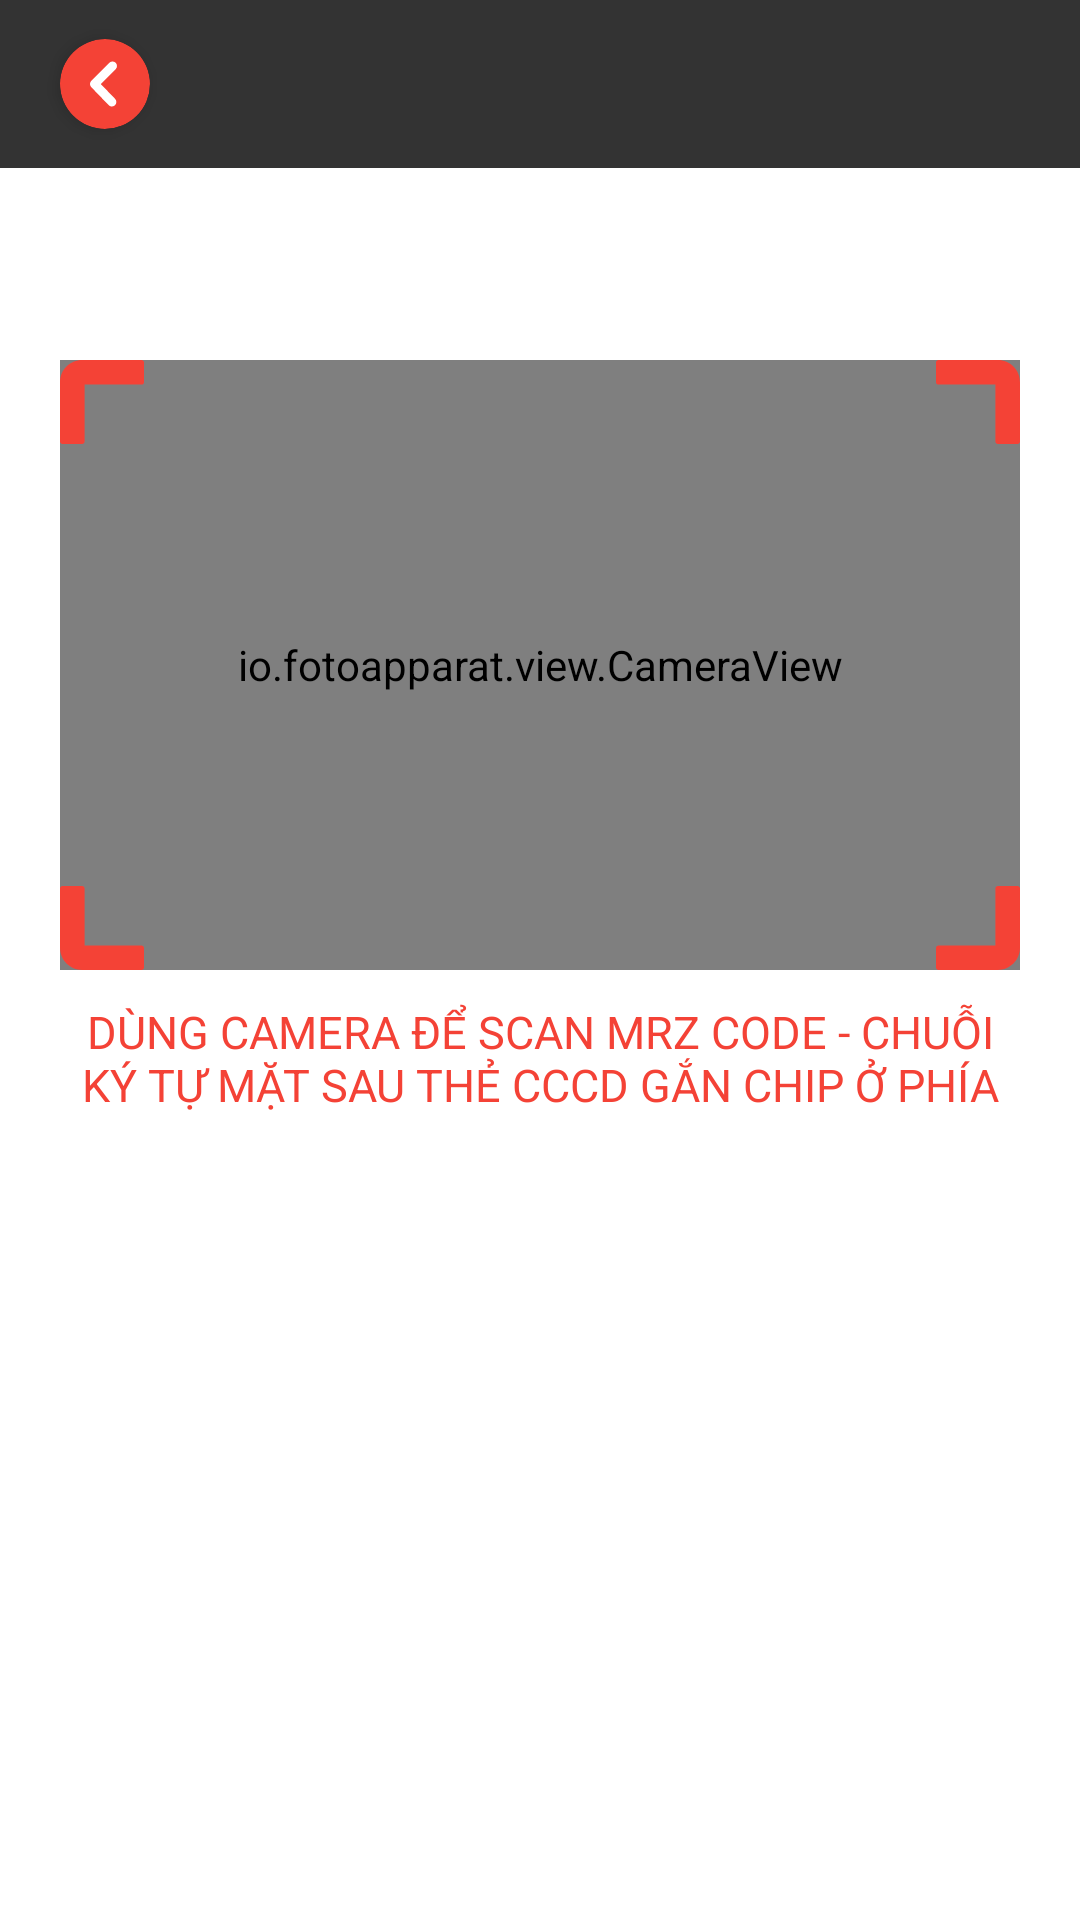

Where to tap for icons on this 1080 × 1920 app screen, as (x=x, y=y):
back: (x=103, y=84)
corner leftbottom: (x=102, y=928)
corner lefttop: (x=102, y=402)
corner rightbottom: (x=978, y=928)
corner righttop: (x=978, y=402)
